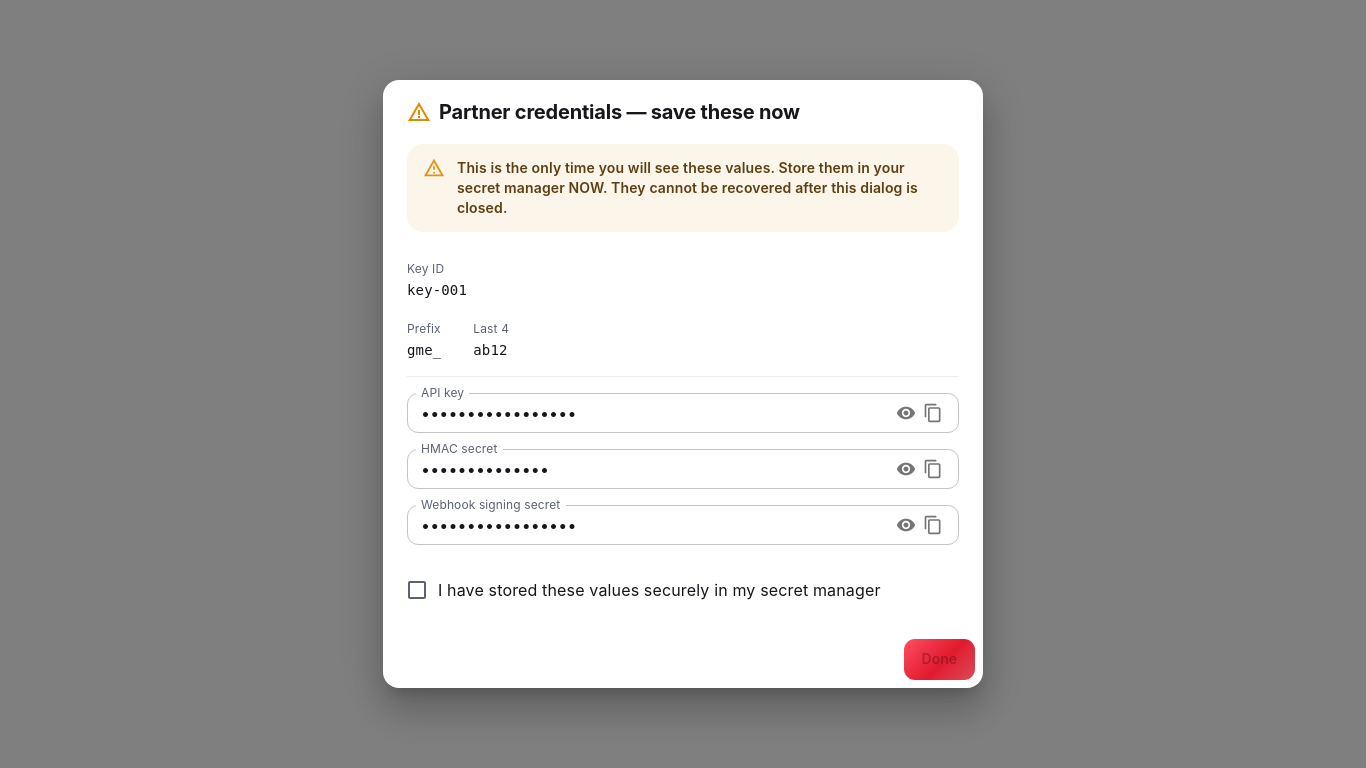
ActivationCredentialModal › Done button is enabled after checking the confirmation checkbox
Click the checkbox named "confirm-stored-checkbox" at {"x": 643, "y": 590}, box [405,578,881,602]
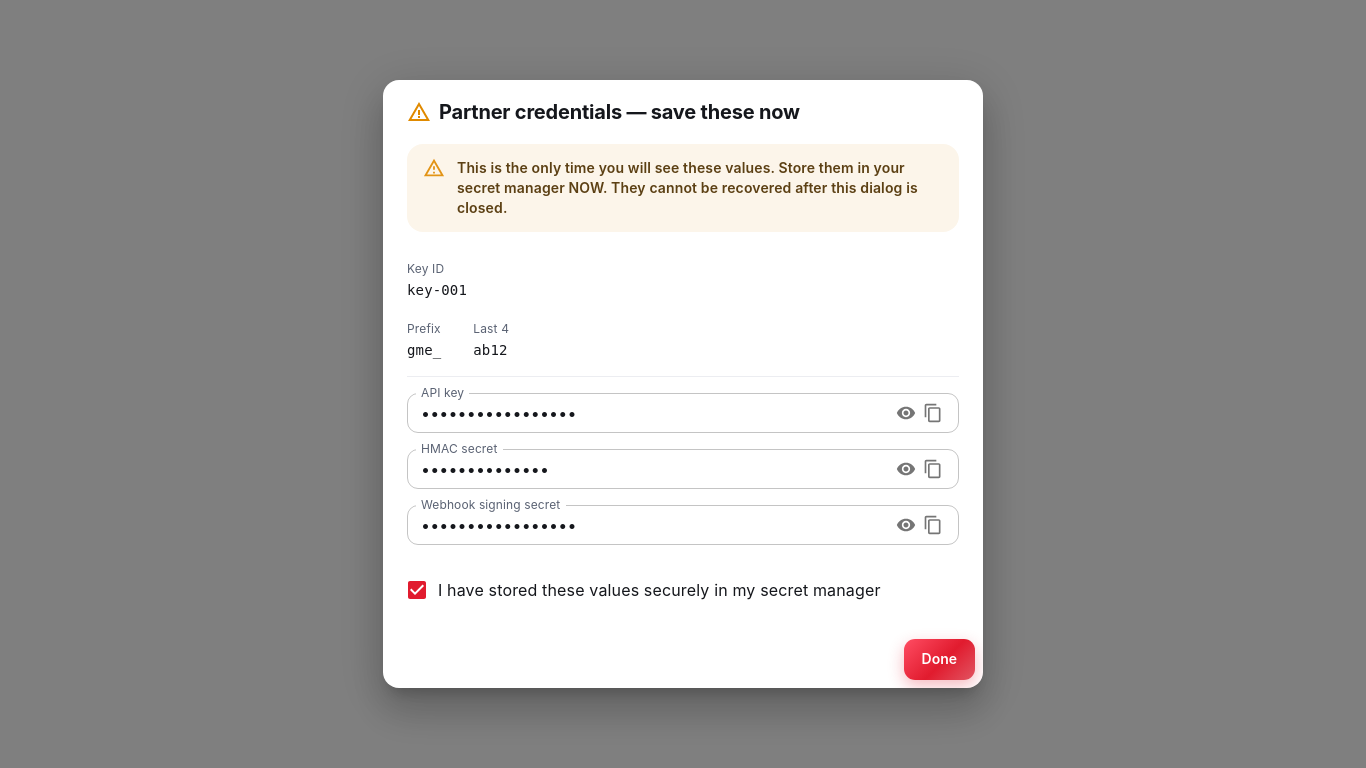
Result: the button with aria-label "done-dismiss-credentials" is enabled at [904,639,975,680]
